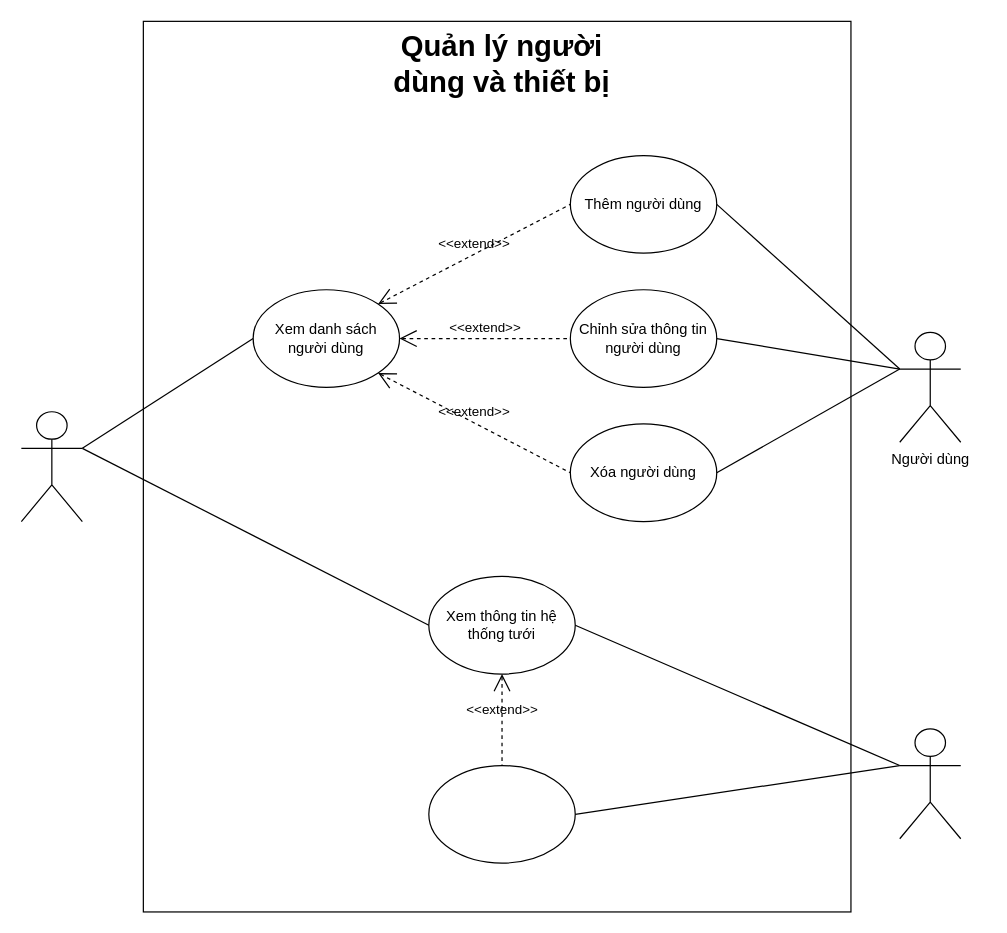
The diagram is 1007 pixels wide and 933 high, and some of its shapes have lost their labels. The centre of each missing label's shape, as x and y in pixels:
adafuit và thiết bị: the point at 930,783
Admin: the point at 51,466
Chỉnh sửa cấu hình hệ thống tưới: the point at 501,813
